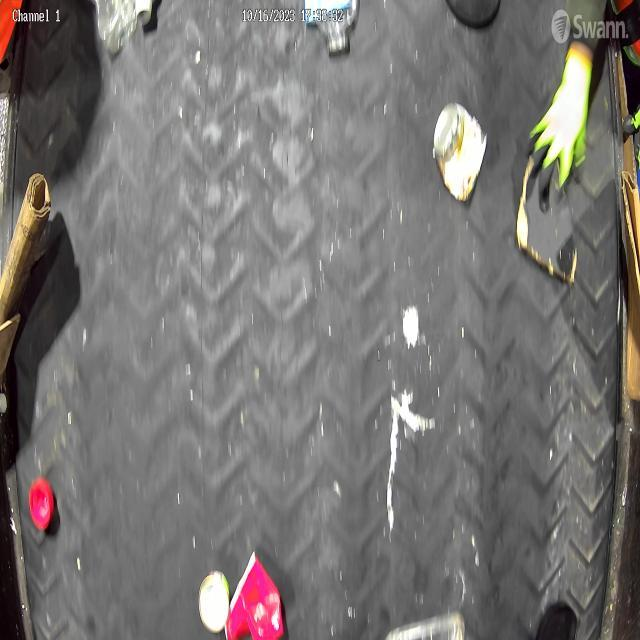can: (434, 100, 487, 203)
